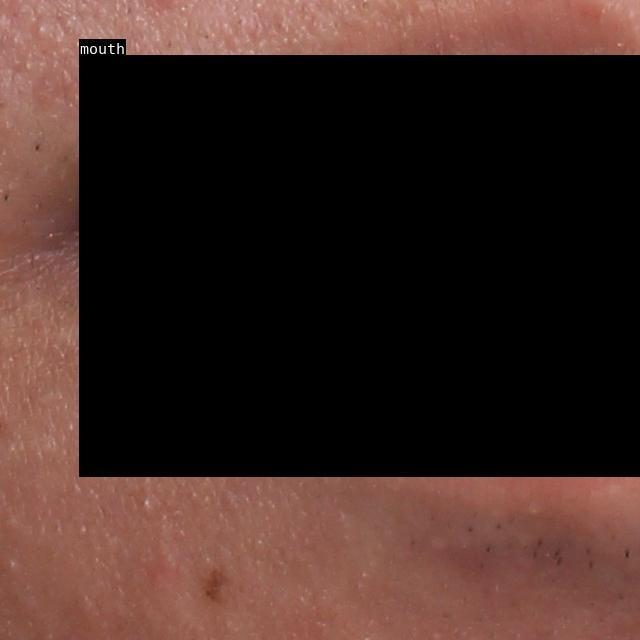comedo: (138, 495, 154, 516)
nevus: (198, 559, 230, 601)
